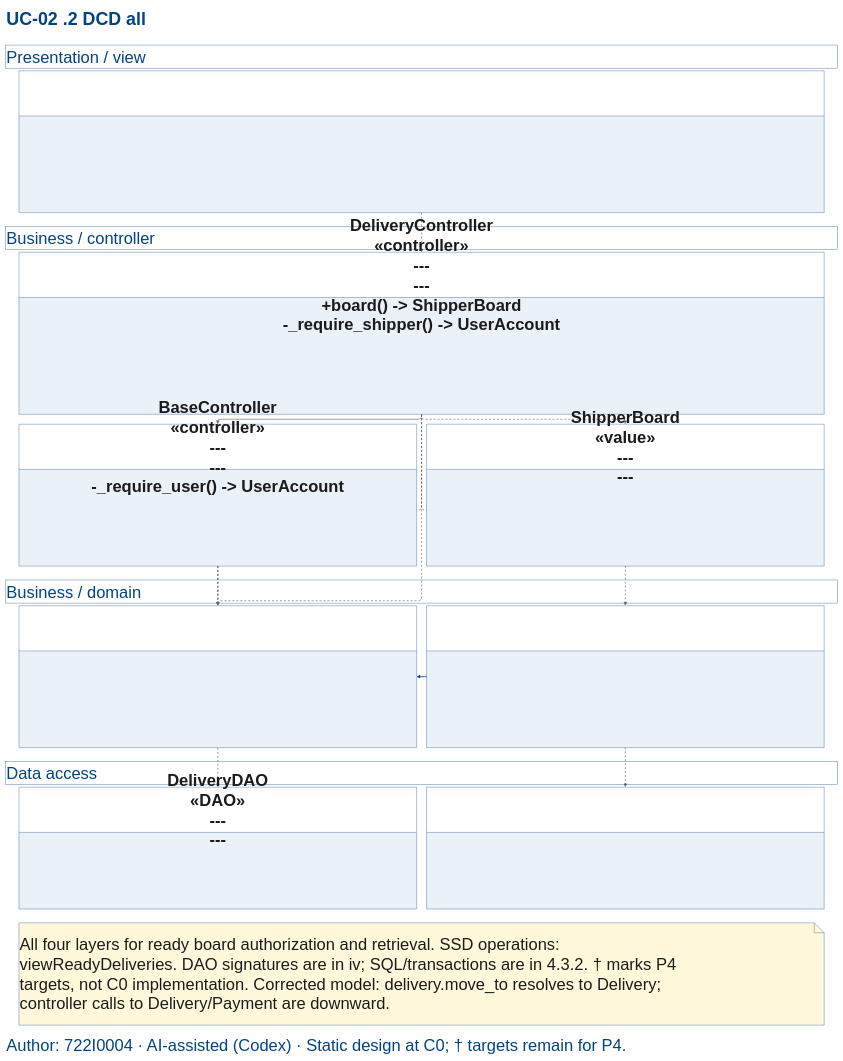
Image size: 843x1061. Some labels were removed from this diagram. The centre of each missing label's shape, as x and y in pixels:
Delivery «entity» --- +state: DeliveryState ---: the point at 625,676
delivery «view» --- --- +board() *: the point at 421,141
UserAccount «entity» --- ---: the point at 218,676
UserDAO «DAO» --- ---: the point at 625,848
